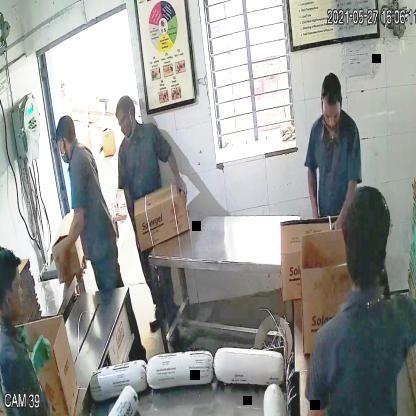no_goggles: (321, 101, 345, 130)
